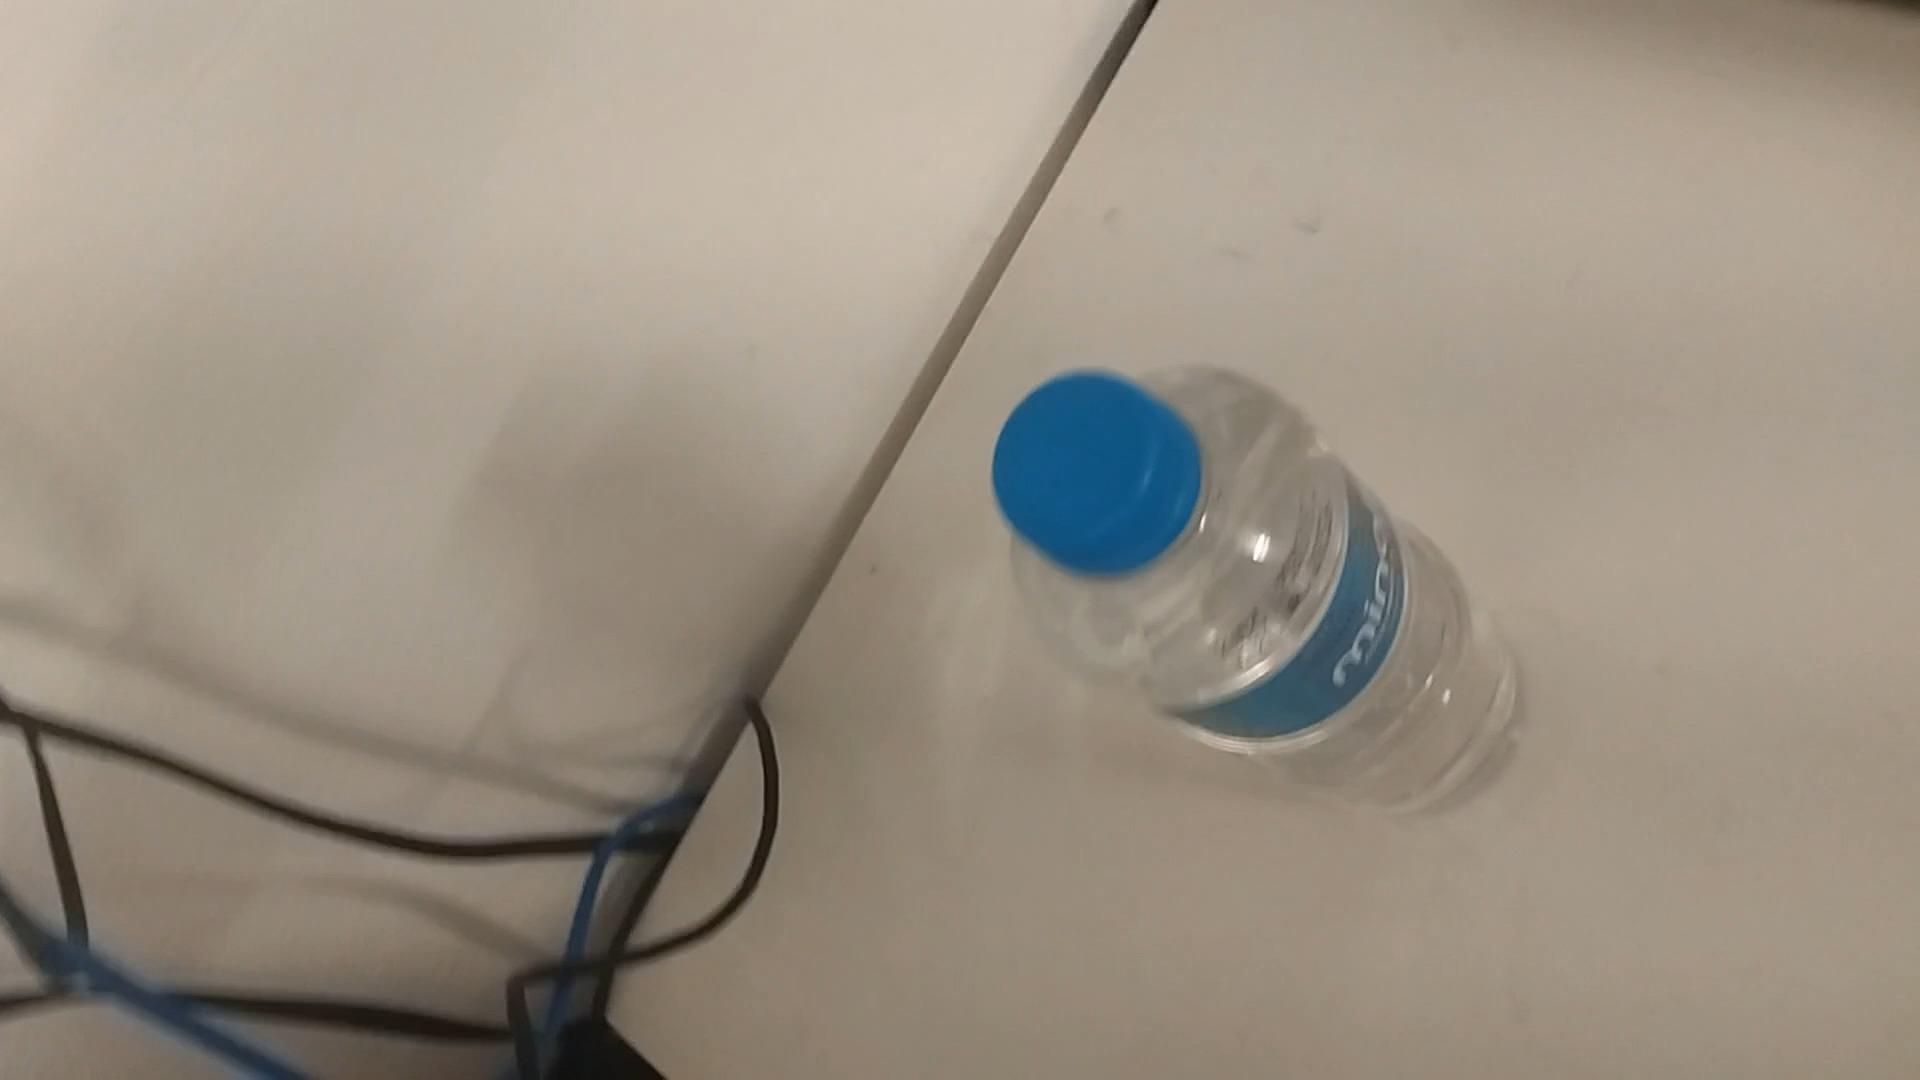agua: (990, 359, 1499, 810)
